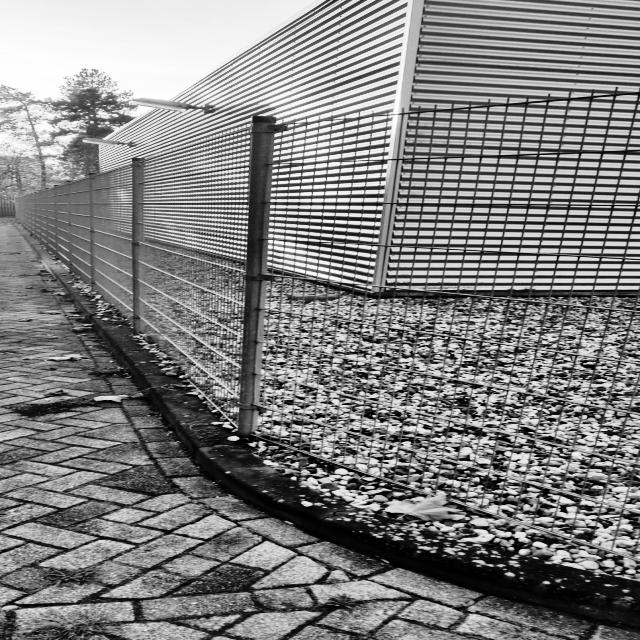fences: (264, 126, 640, 543), (12, 157, 233, 404)
